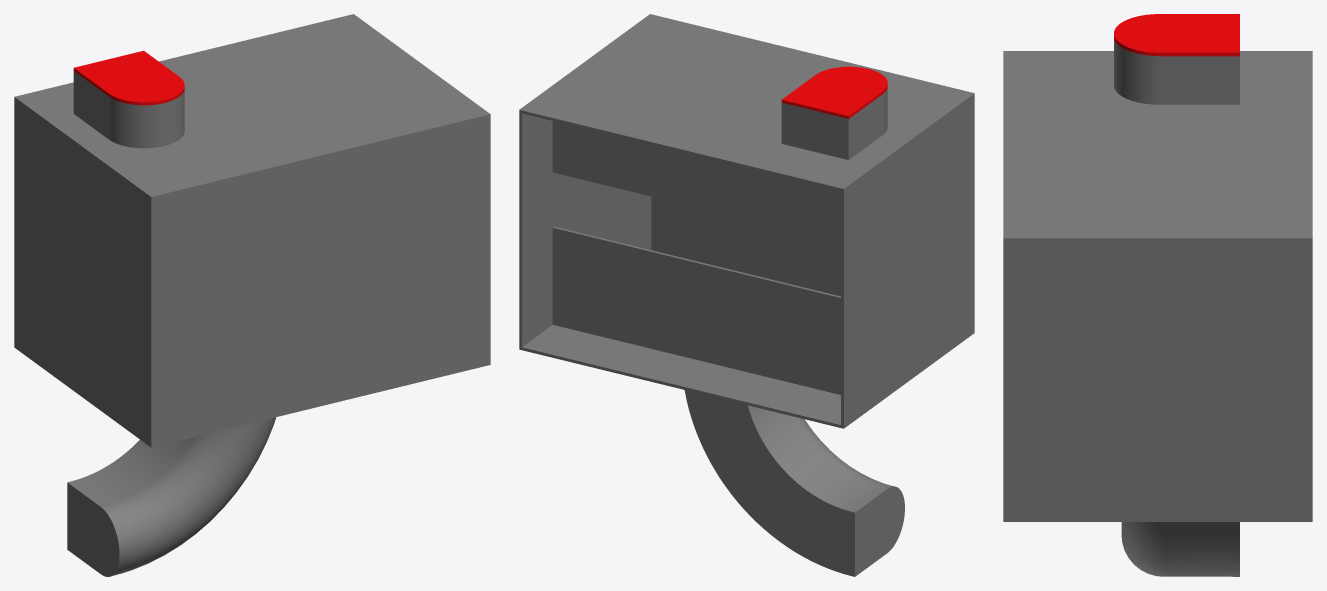
The model's file is 0419_BouncingLevel.fbx.
3 renders of one model, left to right at view 1: azimuth 30°, elevation 25°; view 2: azimuth 150°, elevation 25°; view 3: azimuth 270°, elevation 25°, orthographic. The views are drawn at different scales.
Visible parts, largest first — view 1: wall, roof, exit; view 2: wall, ground, roof, exit; view 3: wall, exit, roof.
Boxes of the visible parts, <box> form: wall: <box>14,14,488,576</box>; roof: <box>149,113,490,447</box>; exit: <box>73,50,184,105</box>; wall: <box>519,15,973,576</box>; ground: <box>552,103,852,573</box>; roof: <box>649,14,974,333</box>; exit: <box>781,66,887,118</box>; wall: <box>1007,39,1312,576</box>; exit: <box>1114,14,1239,56</box>; roof: <box>1003,51,1006,521</box>.
Bounding box in the file's own units: 29.03 × 39.24 × 20.28.
